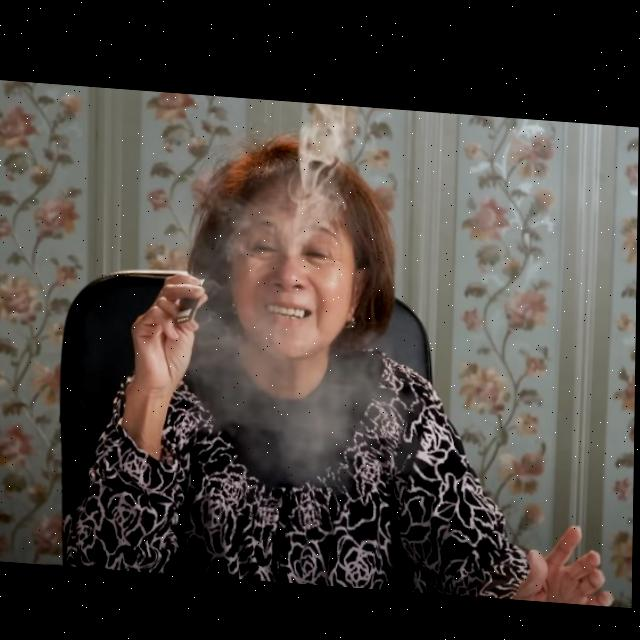vape: (176, 273, 205, 322)
